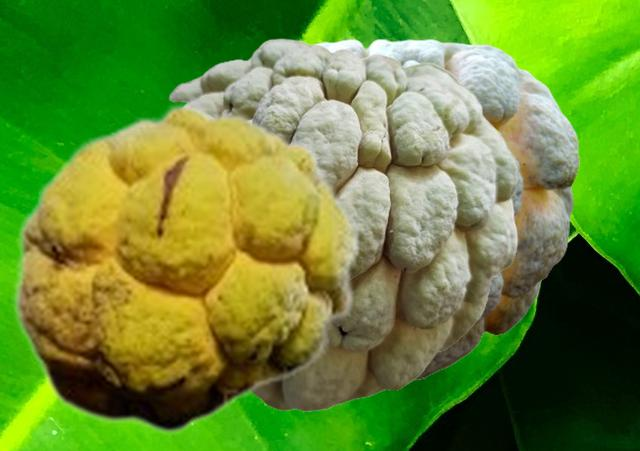atis: (166, 38, 517, 410), (11, 102, 360, 433), (311, 38, 578, 382)
